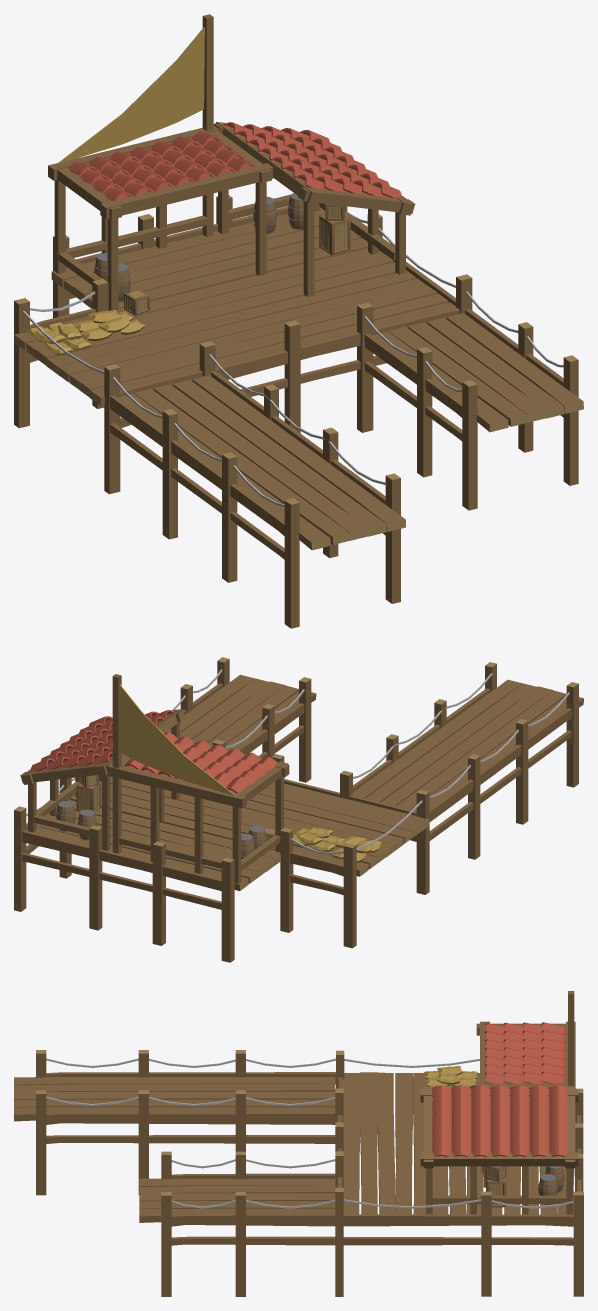
The model's file is Port_SecondAge_Level1.glb.
The picture shows the model from 3 angles, top to bottom: view 1: azimuth 30°, elevation 25°; view 2: azimuth 150°, elevation 25°; view 3: azimuth 270°, elevation 25°; orthographic projection. The views are drawn at different scales.
Visible parts, largest first — view 1: Port_SecondAge_Level1; view 2: Port_SecondAge_Level1; view 3: Port_SecondAge_Level1.
Boxes of the visible parts, x1,y1,x2,y2 form: Port_SecondAge_Level1: (14,14,583,628); Port_SecondAge_Level1: (14,657,583,962); Port_SecondAge_Level1: (14,991,583,1296).
Size of the model in its own units: 1.75 by 1.43 by 2.88.
Materials: 1 (1 with a texture image).
